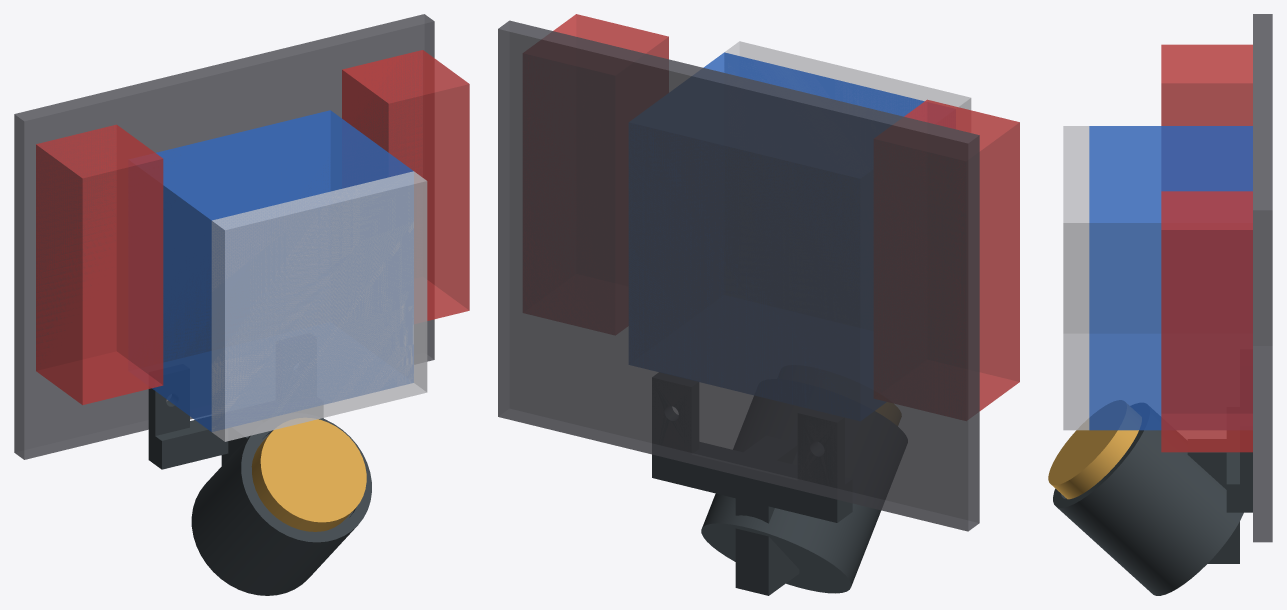
File: cart-pod-holder-v1.glb
3 views of the same model, side by side, from view 1: azimuth 30°, elevation 25°; view 2: azimuth 150°, elevation 25°; view 3: azimuth 270°, elevation 25° (orthographic). The views are drawn at different scales.
Parts seen in each view (by area): view 1: battery, plate, motors, arm_base, cart_pod_holder, seedling_pod; view 2: plate, motors, cart_pod_holder, battery, arm_base; view 3: motors, battery, cart_pod_holder, plate, arm_base, seedling_pod.
Part boxes in pixels (x1,y1,x2,y2): battery: (152,110,413,431); plate: (14,14,434,459); motors: (36,50,469,405); arm_base: (211,171,427,441); cart_pod_holder: (148,364,371,595); seedling_pod: (251,418,366,531); plate: (498,20,979,531); motors: (523,14,1019,420); cart_pod_holder: (652,373,907,595); battery: (629,52,924,420); arm_base: (724,41,971,115); motors: (1161,44,1252,452); battery: (1089,126,1252,430); cart_pod_holder: (1053,403,1252,595); plate: (1253,14,1272,542); arm_base: (1063,126,1089,430); seedling_pod: (1048,400,1141,499).
Size of the model in its own units: 142 by 160 by 68.51.
